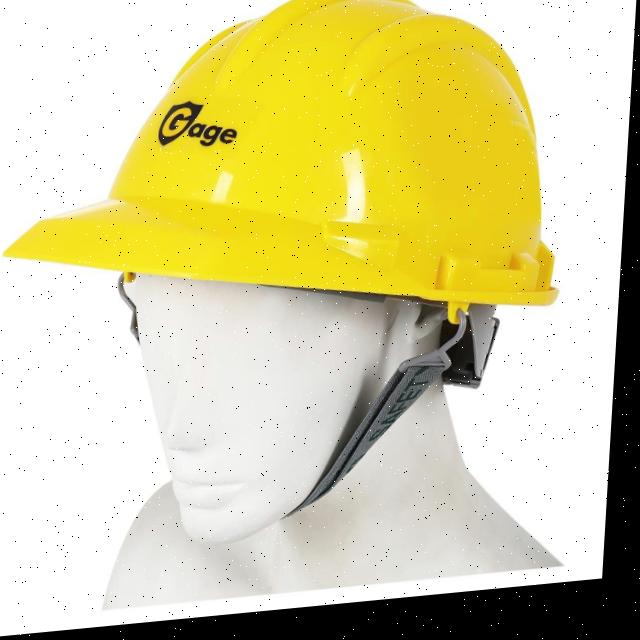illegal_helmet: (0, 0, 592, 578)
